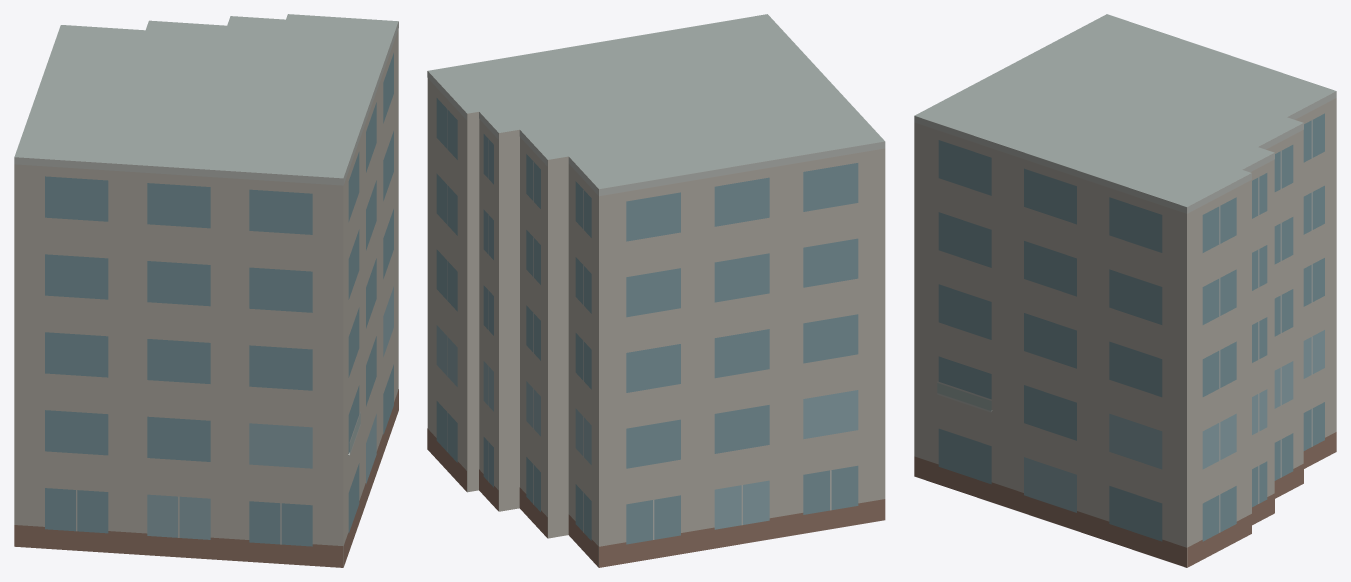
Rendered from survey-upis-32671524.glb.
3 views of the same model, side by side, from view 1: azimuth 30°, elevation 25°; view 2: azimuth 150°, elevation 25°; view 3: azimuth 270°, elevation 25° (orthographic). The views are drawn at different scales.
Visible parts, largest first — view 1: survey-upis-32671524.tmp; view 2: survey-upis-32671524.tmp; view 3: survey-upis-32671524.tmp.
Boxes of the visible parts, box(x1,y1,x2,y2) form: survey-upis-32671524.tmp: box(14, 14, 398, 567); survey-upis-32671524.tmp: box(427, 14, 885, 567); survey-upis-32671524.tmp: box(914, 14, 1336, 567).
Bounding box in the file's own units: 15.17 × 13.2 × 14.02.
